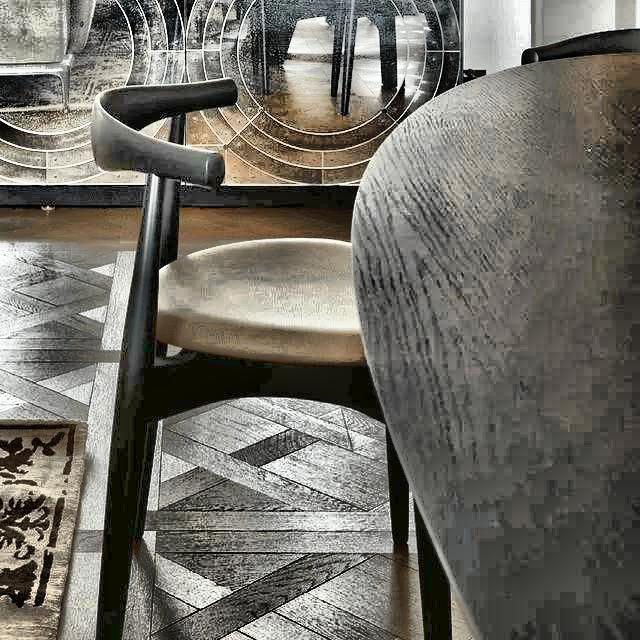cadeira: (87, 72, 460, 640), (92, 69, 465, 430)
